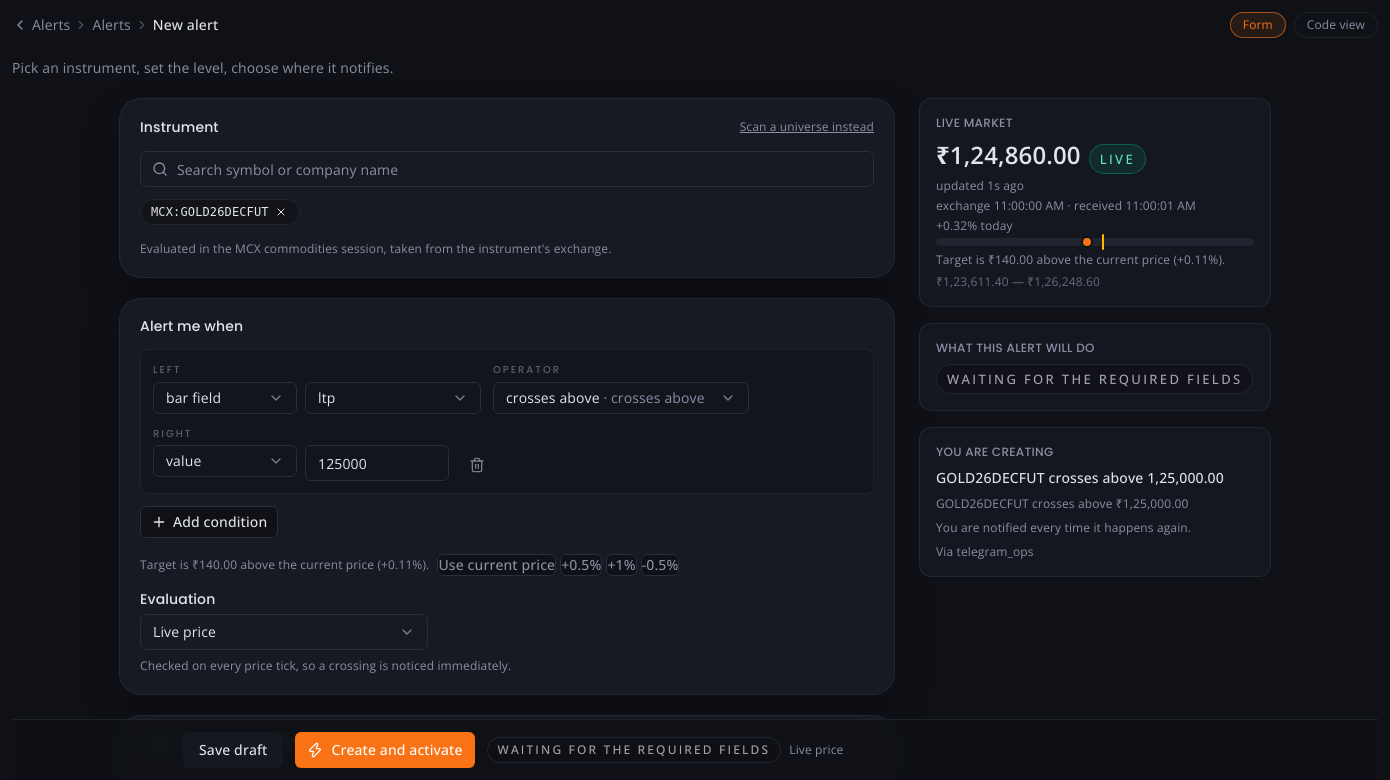
Scenario: UnifiedAlertEditor › keeps the entered values when the server rejects a save
Replace the text in the number field named "condition 1 right value" with "9999" at [377, 463], box [305,445,449,481]
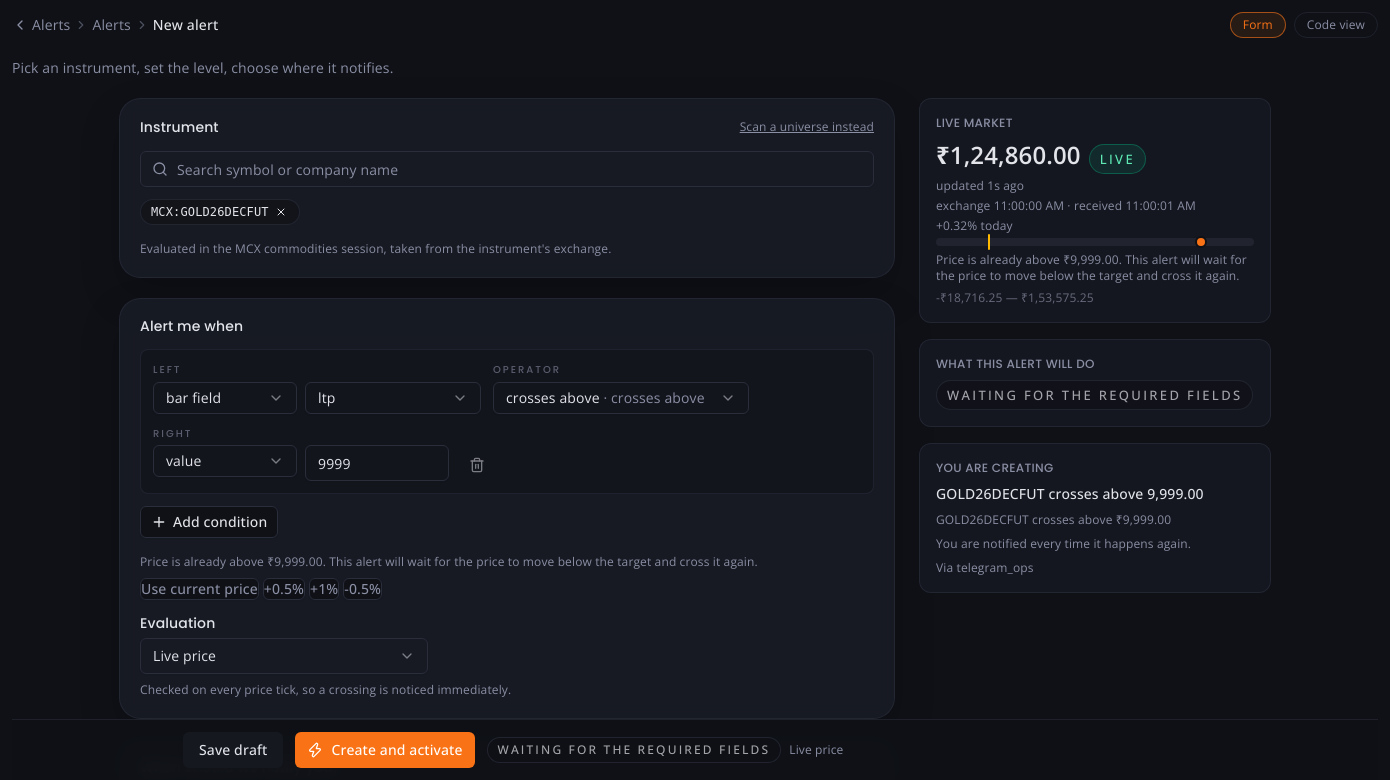
Click the button "Create and activate" at [385, 750], box [295,732,474,768]
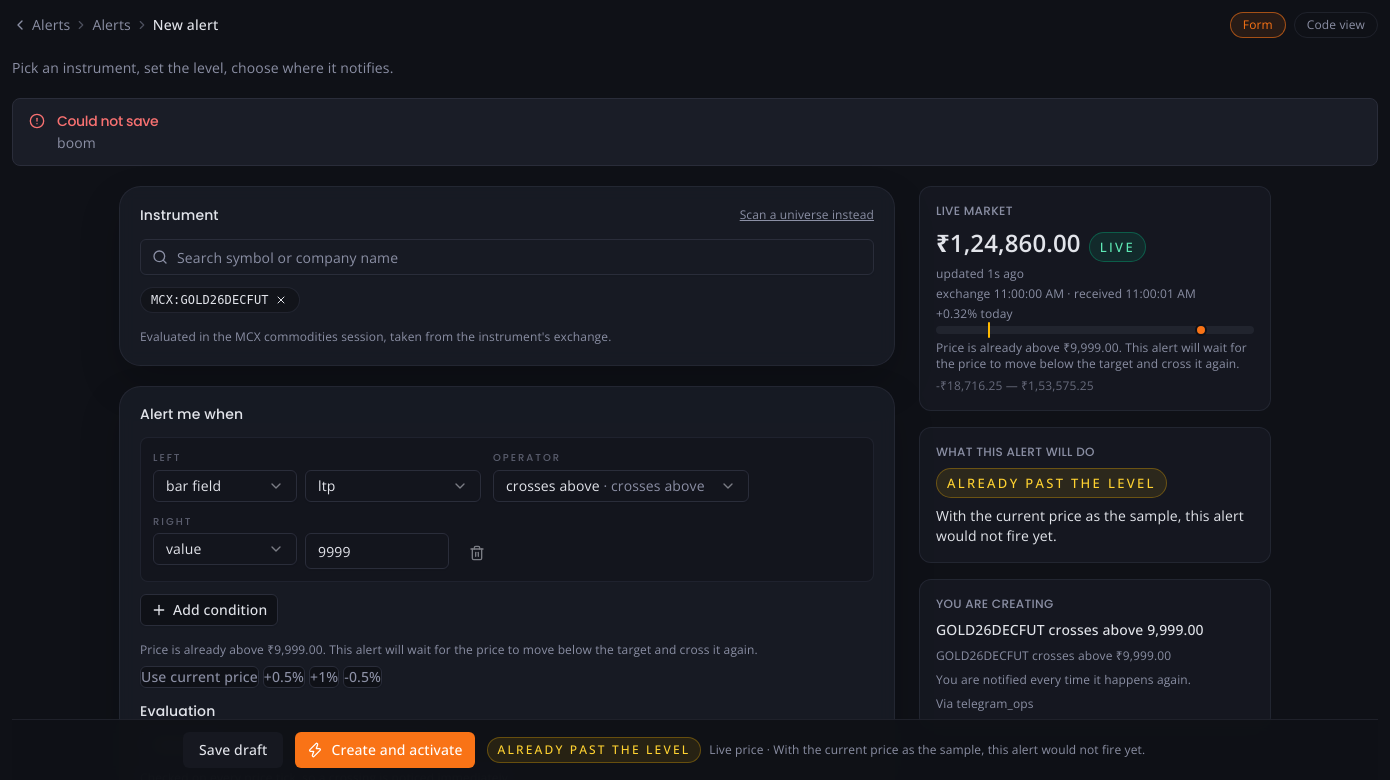
Expected: the heading "Could not save" is shown, [57,111,158,131]
